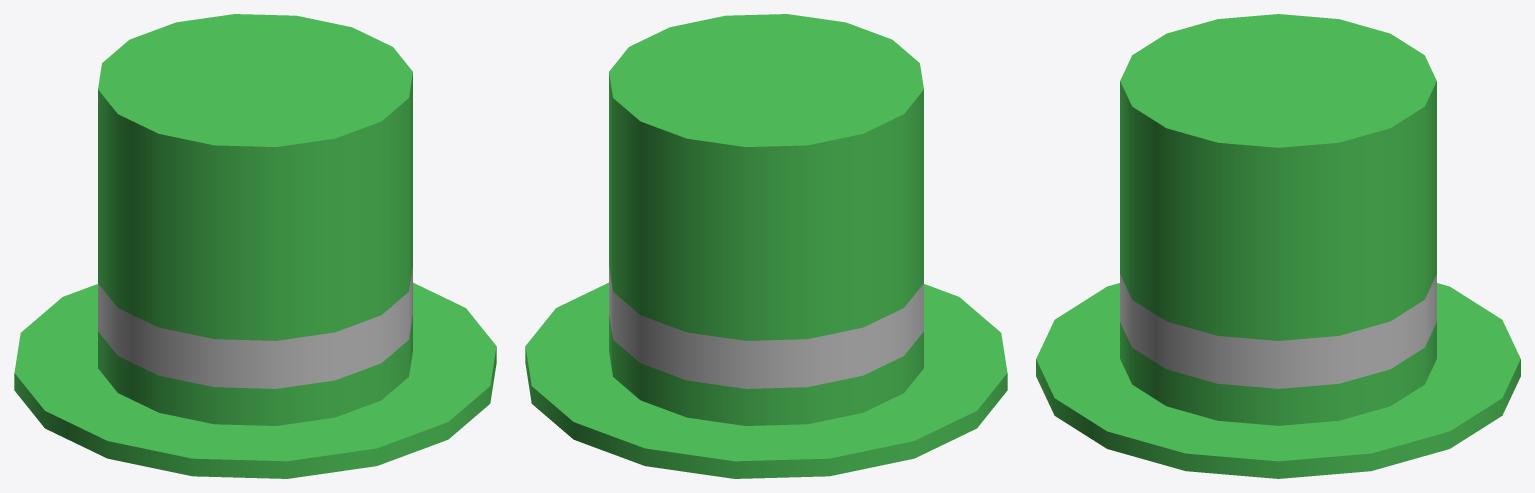
File: extra life hat.fbx
3 views of the same model, side by side, from view 1: azimuth 30°, elevation 25°; view 2: azimuth 150°, elevation 25°; view 3: azimuth 270°, elevation 25° (orthographic).
Parts seen in each view (by area): view 1: Cylinder; view 2: Cylinder; view 3: Cylinder.
Part boxes in pixels (x1=…): Cylinder: x1=14, y1=14, x2=496, y2=478; Cylinder: x1=525, y1=14, x2=1007, y2=478; Cylinder: x1=1036, y1=14, x2=1520, y2=478.
Bounding box in the file's own units: 100 × 67.31 × 100.
